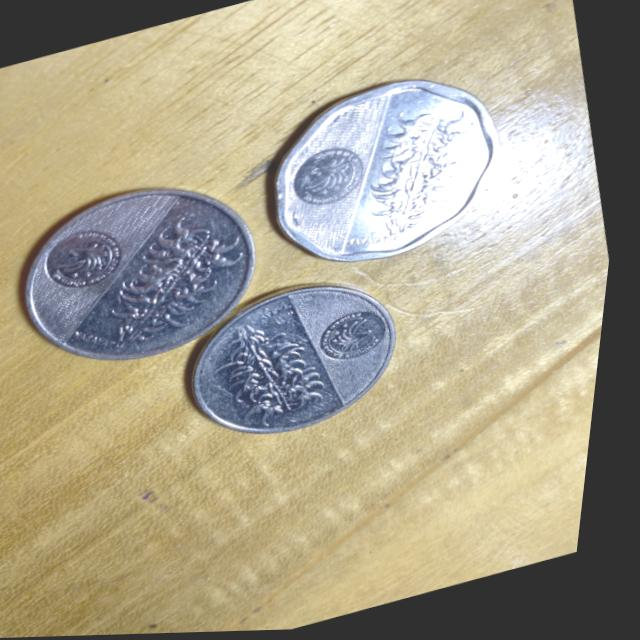5_New_Back: (90, 205, 267, 357), (356, 105, 495, 245), (215, 307, 341, 437)
